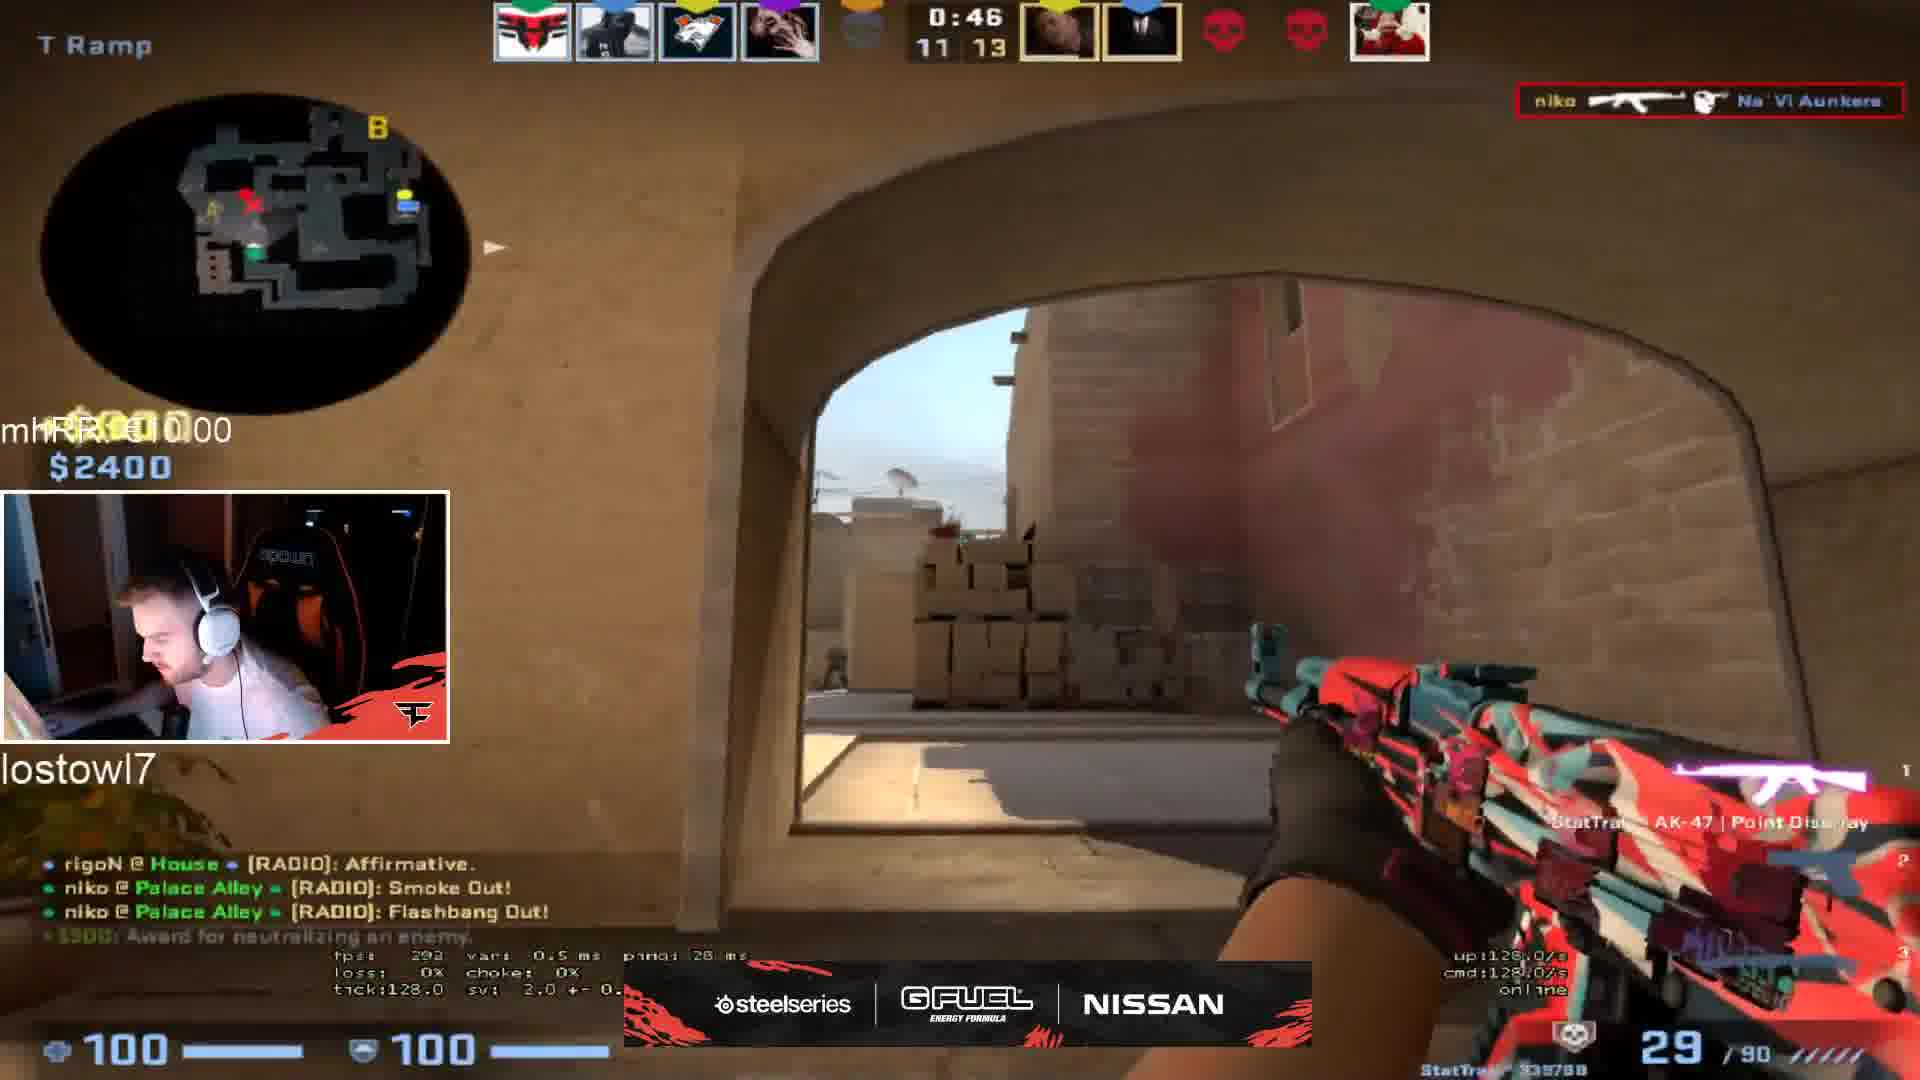enemy: (818, 641, 851, 700)
